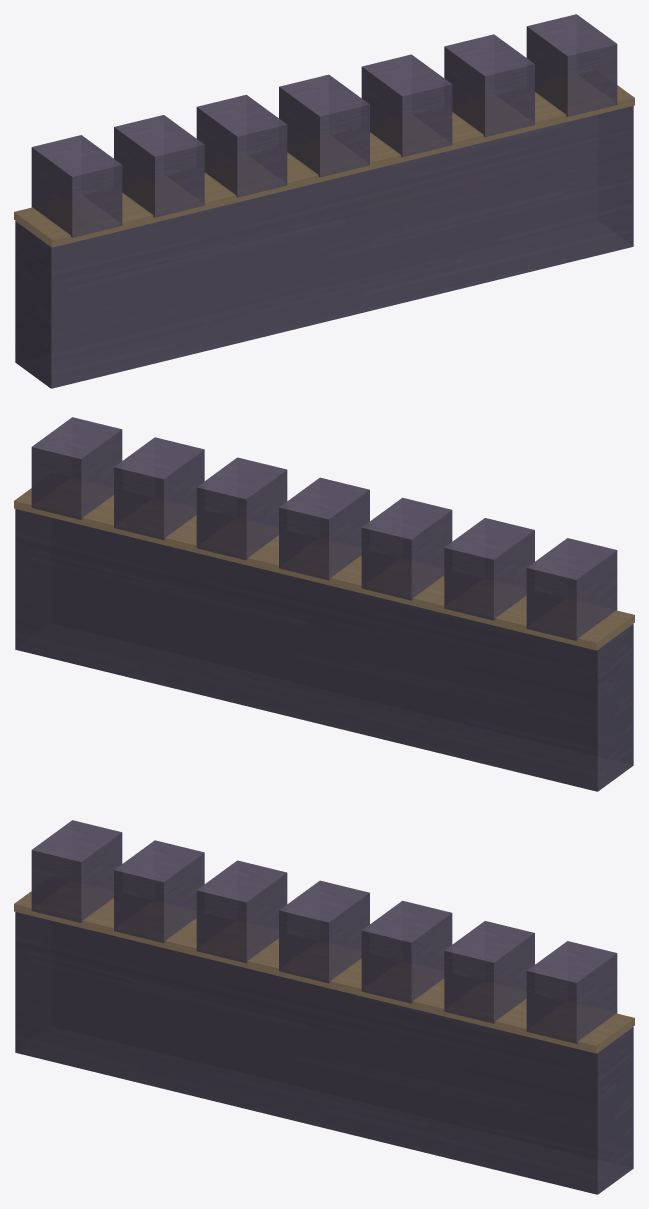
Rendered from rempart-droit.glb.
3 views of the same model, one above another, from view 1: azimuth 30°, elevation 25°; view 2: azimuth 150°, elevation 25°; view 3: azimuth 330°, elevation 25° (orthographic).
Visible parts, largest first — view 1: DroitBase, DroitLiseré, DroitCrenel0, DroitCrenel2, DroitCrenel6, DroitCrenel4, DroitCrenel3, DroitCrenel1, DroitCrenel5; view 2: DroitBase, DroitLiseré, DroitCrenel0, DroitCrenel2, DroitCrenel6, DroitCrenel4, DroitCrenel3, DroitCrenel1, DroitCrenel5; view 3: DroitBase, DroitLiseré, DroitCrenel6, DroitCrenel4, DroitCrenel0, DroitCrenel2, DroitCrenel3, DroitCrenel5, DroitCrenel1.
Boxes of the visible parts, <box> form: DroitBase: <box>15,106,633,388</box>; DroitLiseré: <box>14,75,634,247</box>; DroitCrenel0: <box>31,135,122,237</box>; DroitCrenel2: <box>196,94,287,197</box>; DroitCrenel6: <box>526,14,617,116</box>; DroitCrenel4: <box>361,54,452,157</box>; DroitCrenel3: <box>279,74,369,177</box>; DroitCrenel1: <box>114,115,204,217</box>; DroitCrenel5: <box>444,34,534,137</box>; DroitBase: <box>15,509,633,791</box>; DroitLiseré: <box>14,478,634,650</box>; DroitCrenel0: <box>526,538,617,640</box>; DroitCrenel2: <box>361,497,452,600</box>; DroitCrenel6: <box>31,417,122,519</box>; DroitCrenel4: <box>196,457,287,560</box>; DroitCrenel3: <box>279,477,369,580</box>; DroitCrenel1: <box>444,518,534,620</box>; DroitCrenel5: <box>114,437,204,540</box>; DroitBase: <box>15,912,633,1194</box>; DroitLiseré: <box>14,881,634,1053</box>; DroitCrenel6: <box>526,941,617,1043</box>; DroitCrenel4: <box>361,900,452,1003</box>; DroitCrenel0: <box>31,820,122,922</box>; DroitCrenel2: <box>196,860,287,963</box>; DroitCrenel3: <box>279,880,369,983</box>; DroitCrenel5: <box>444,921,534,1023</box>; DroitCrenel1: <box>114,840,204,943</box>.
Bounding box in the file's own units: 2.8 × 0.96 × 0.34.
3 materials, 3 textured.
